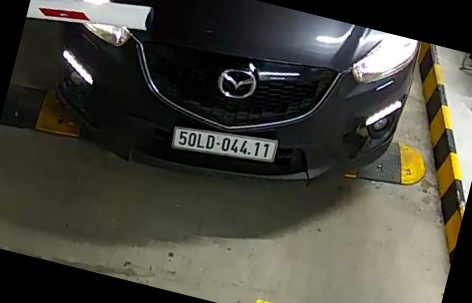plate: (166, 120, 293, 174)
